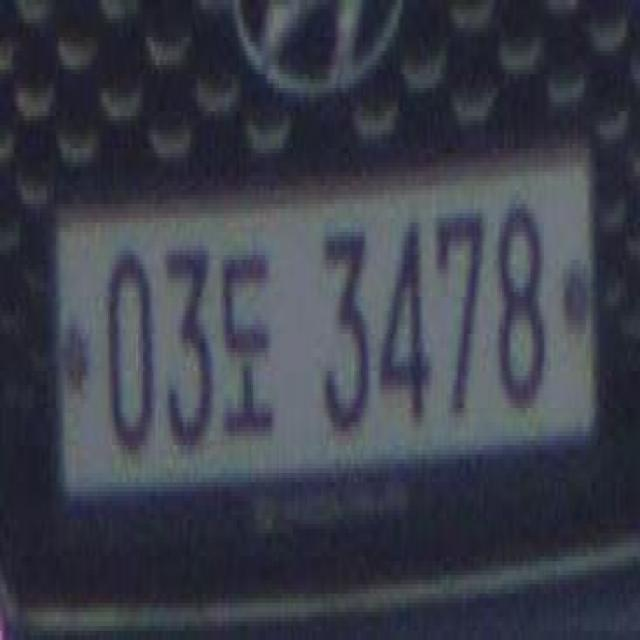illegal_plate: (47, 145, 605, 512)
